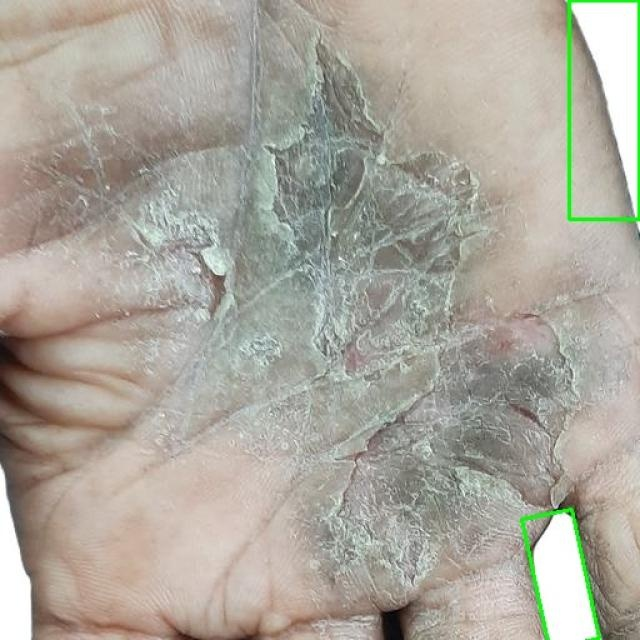Contact Dermatitis: (569, 0, 639, 219), (522, 509, 600, 640)
